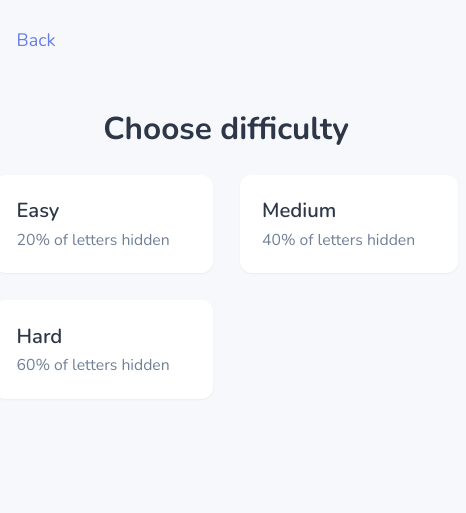
Test: FillInBlanks › uses challenges prop when provided
This screenshot has width=466, height=513.
What coordinates should you click on to do the following:
click the text "Easy"
I would click on:
 (38, 211)
Its box is [16,197,59,224].
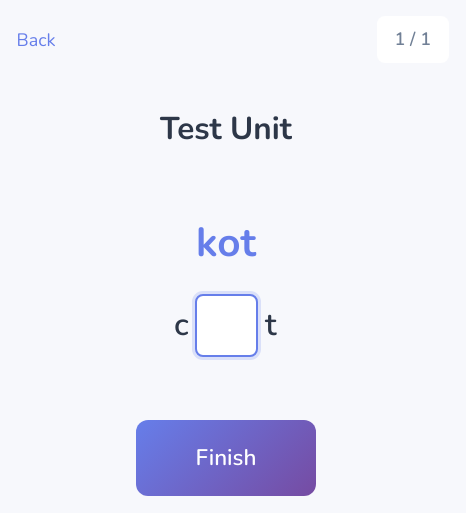
Result: the text "1 / 1" is shown at [376,16,449,63]
